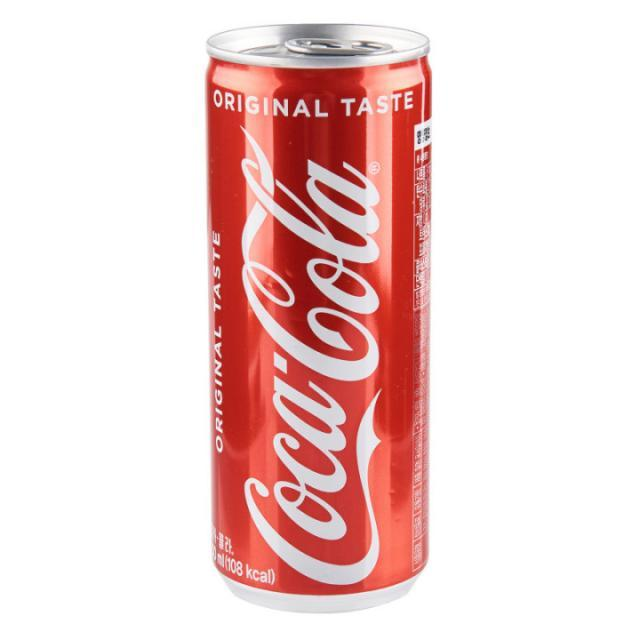coca-cola: (199, 16, 437, 616)
